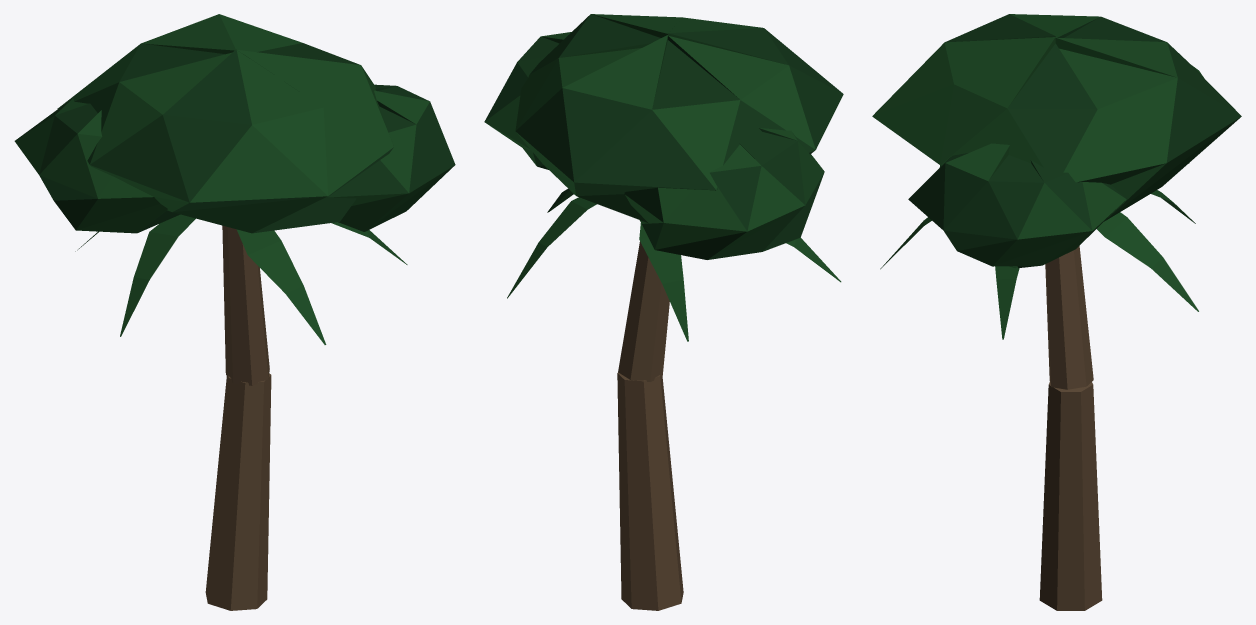
The model's file is jungle_tree.glb.
3 renders of one model, left to right at view 1: azimuth 30°, elevation 25°; view 2: azimuth 150°, elevation 25°; view 3: azimuth 270°, elevation 25°, orthographic.
Parts seen in each view (by area): view 1: jungle_tree2; view 2: jungle_tree2; view 3: jungle_tree2.
Boxes of the visible parts, x1,y1,x2,y2 form: jungle_tree2: (14,14,455,610); jungle_tree2: (484,14,843,610); jungle_tree2: (872,14,1241,610).
Size of the model in its own units: 5.27 by 8.08 by 4.84.
